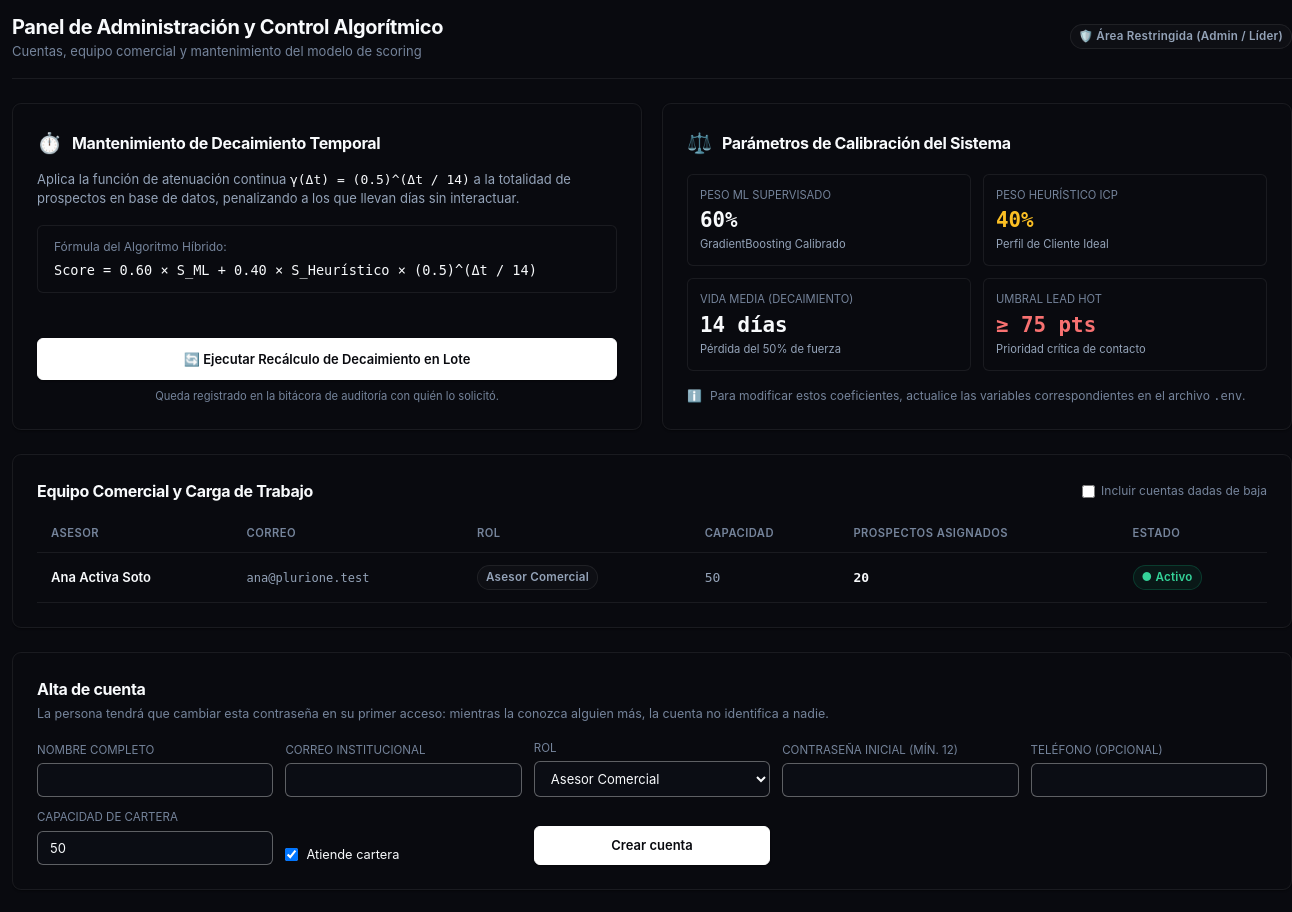
Test: un 422 al dar de alta una cuenta › el aviso de un fallo se anuncia como alerta y no como estado
Expected: the heading "Alta de cuenta" is shown, [37, 679, 146, 699]
Type "A" into the field labelled "Nombre completo" at (155, 780), box [37, 763, 273, 797]
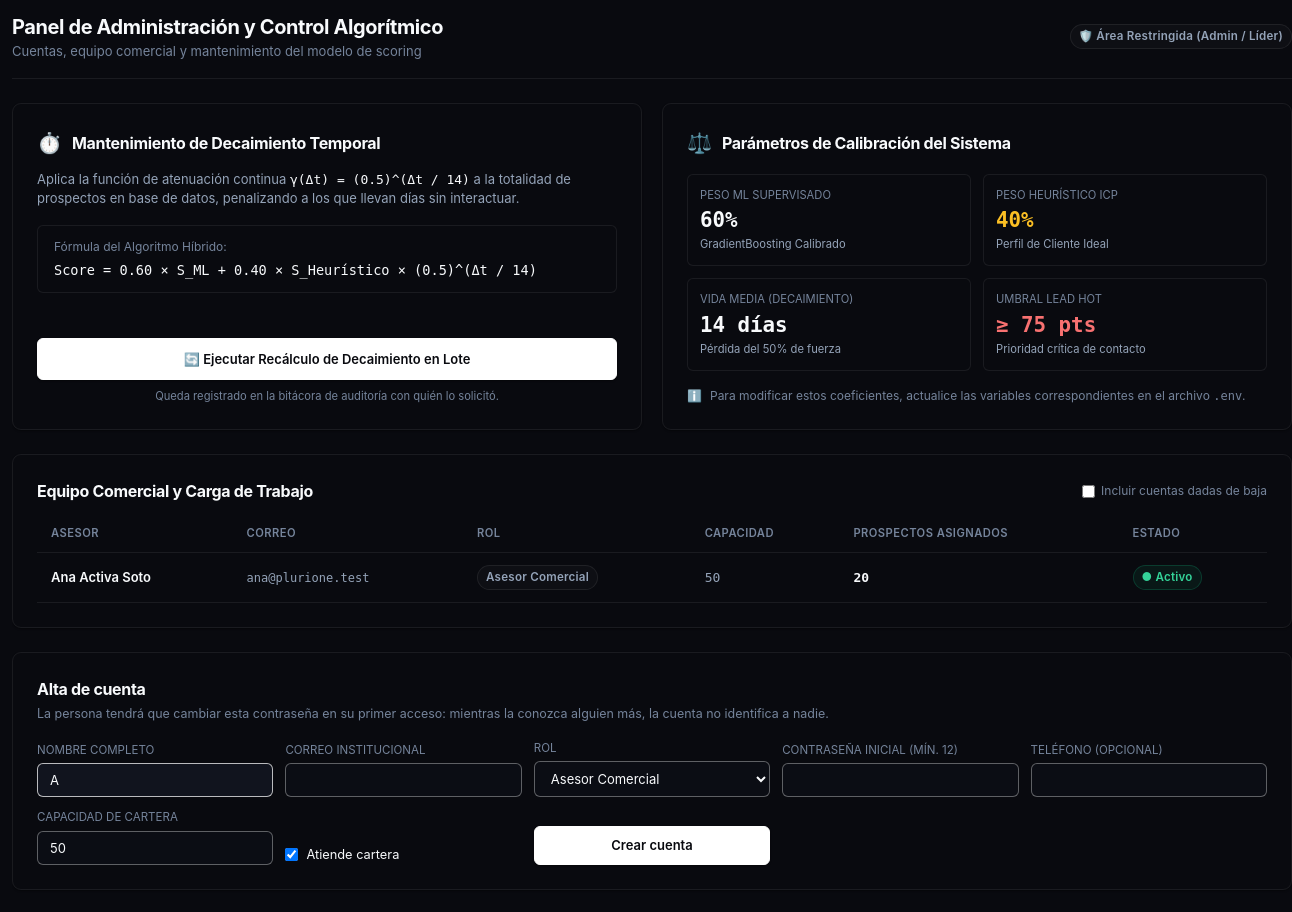
Type "nueva@plurione.test" into the field labelled "Correo institucional" at (404, 780), box [285, 763, 522, 797]
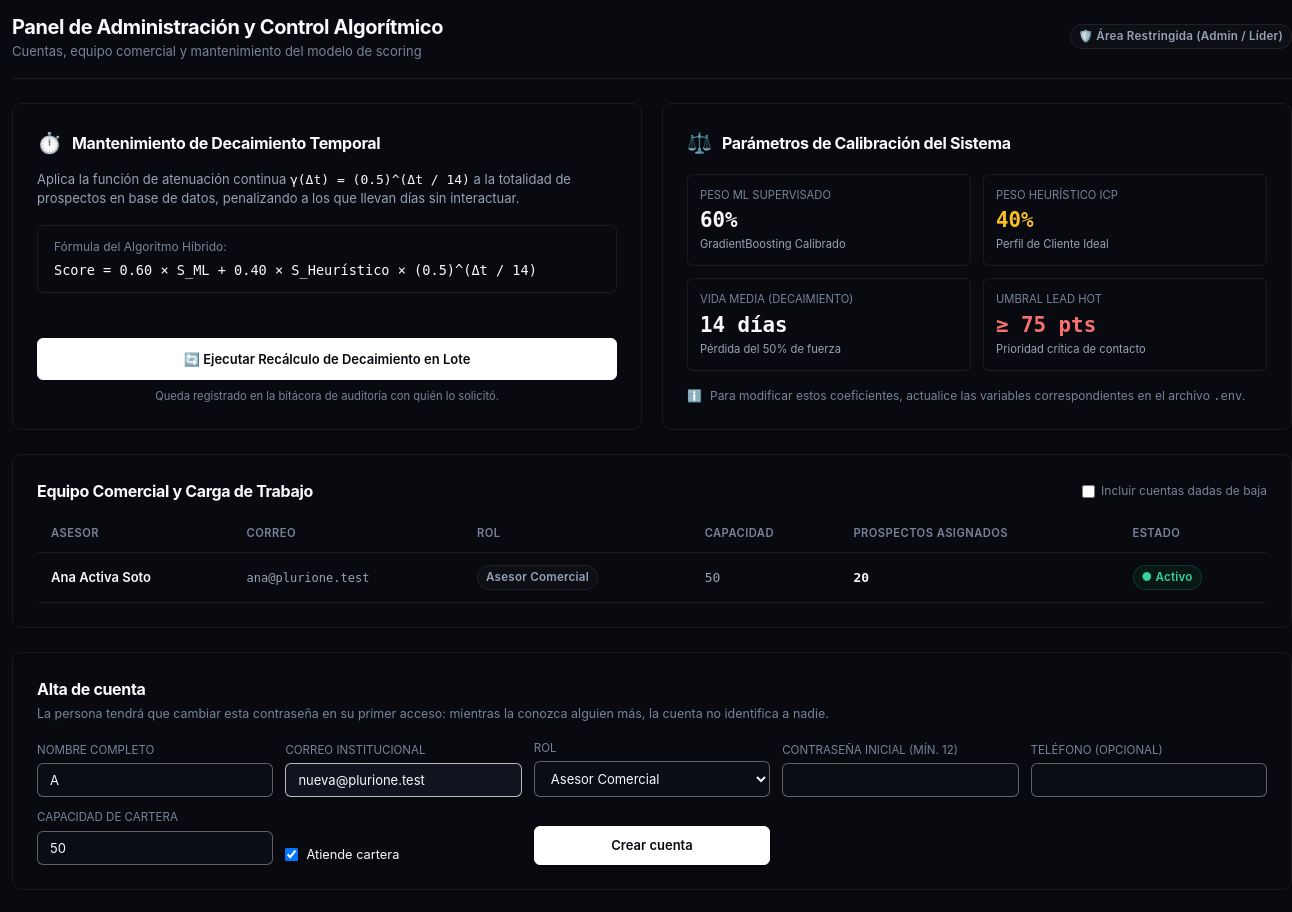
Type "unafraselargaybuena" into the password field labelled "Contraseña inicial (mín. 12)" at (900, 780), box [782, 763, 1019, 797]
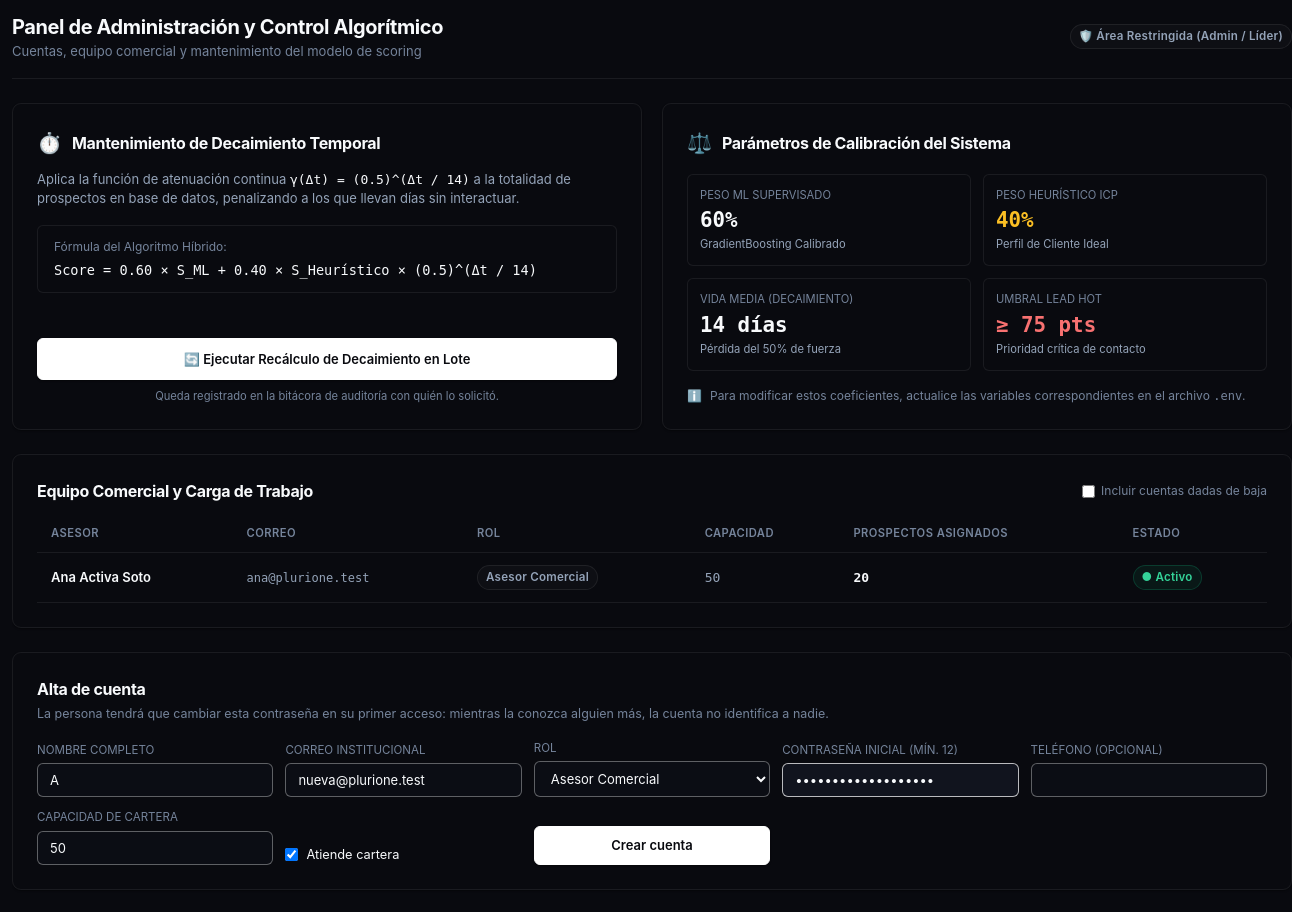
Click the button "Crear cuenta" at (652, 845), box [534, 826, 770, 865]
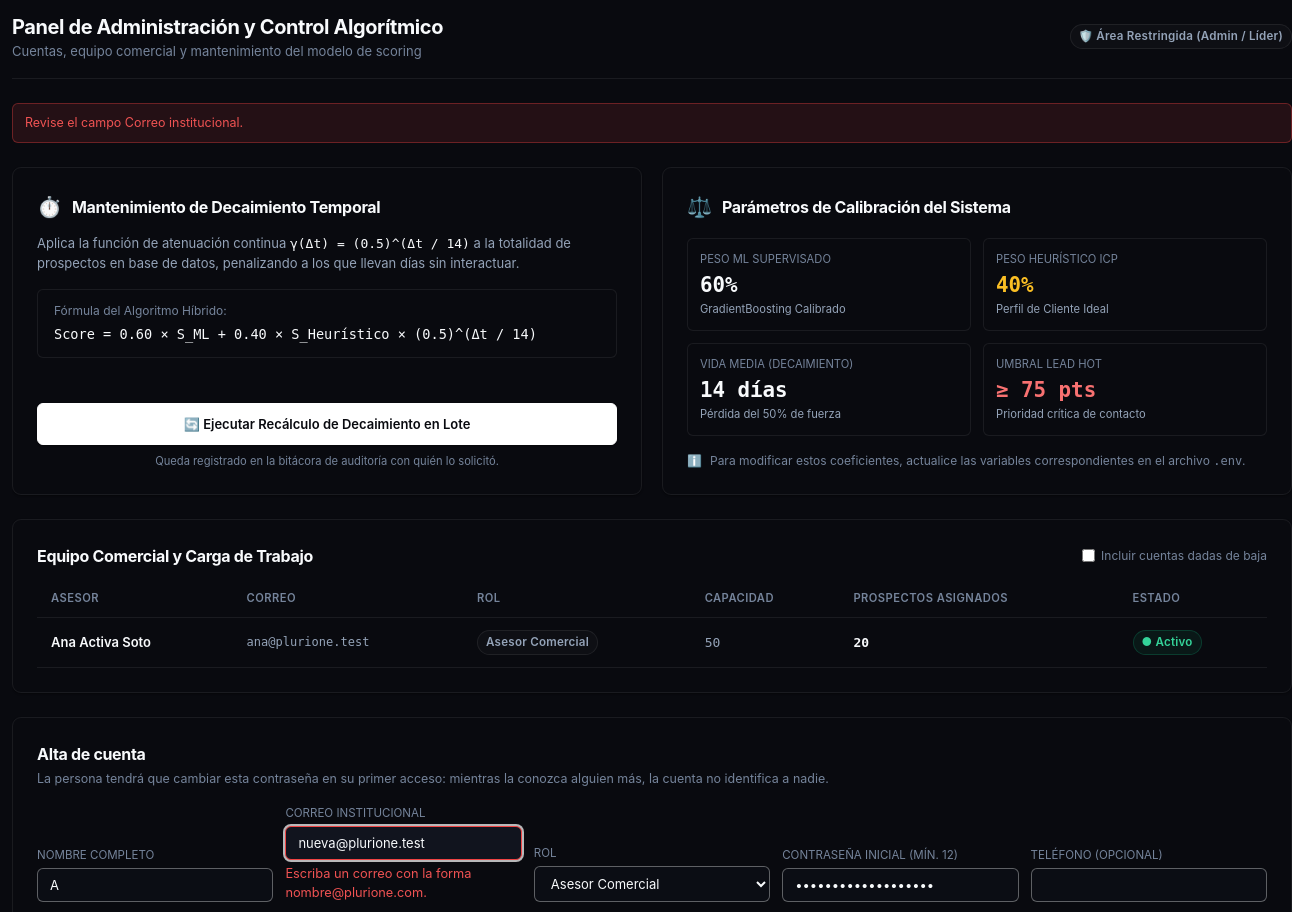
Result: the message shows "Revise el campo Correo institucional" at [25, 114, 243, 130]
